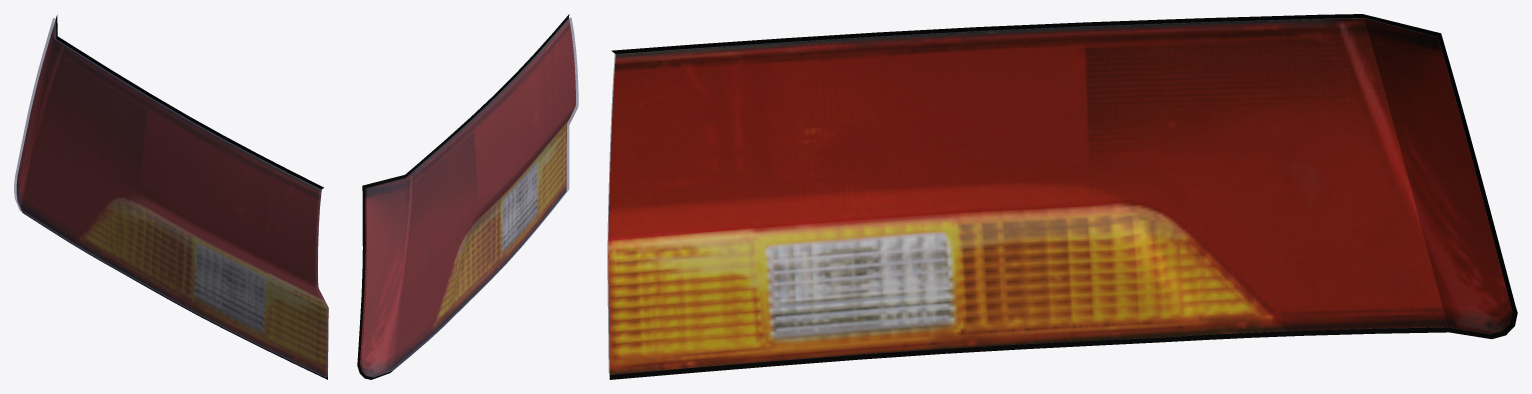
3 views of the same model, side by side, from view 1: azimuth 30°, elevation 25°; view 2: azimuth 150°, elevation 25°; view 3: azimuth 270°, elevation 25° (orthographic). The views are drawn at different scales.
Visible parts, largest first — view 1: H611_541D_R_2_DTaSI_H611_541D_R, H611_541D_R_H611_541D_R_1_N, H611_541D_R_H611_541D_R_3_D; view 2: H611_541D_R_2_DTaSI_H611_541D_R, H611_541D_R_H611_541D_R_1_N, H611_541D_R_H611_541D_R_3_D; view 3: H611_541D_R_H611_541D_R_1_N, H611_541D_R_H611_541D_R_3_D.
Boxes of the visible parts, <box> form: H611_541D_R_2_DTaSI_H611_541D_R: <box>14,18,328,377</box>; H611_541D_R_H611_541D_R_1_N: <box>17,20,328,376</box>; H611_541D_R_H611_541D_R_3_D: <box>17,15,327,379</box>; H611_541D_R_2_DTaSI_H611_541D_R: <box>360,17,578,377</box>; H611_541D_R_H611_541D_R_1_N: <box>360,18,575,376</box>; H611_541D_R_H611_541D_R_3_D: <box>357,14,569,379</box>; H611_541D_R_H611_541D_R_1_N: <box>608,17,1512,374</box>; H611_541D_R_H611_541D_R_3_D: <box>609,14,1517,379</box>.
Size of the model in its own units: 6.8 by 20.55 by 51.84.
